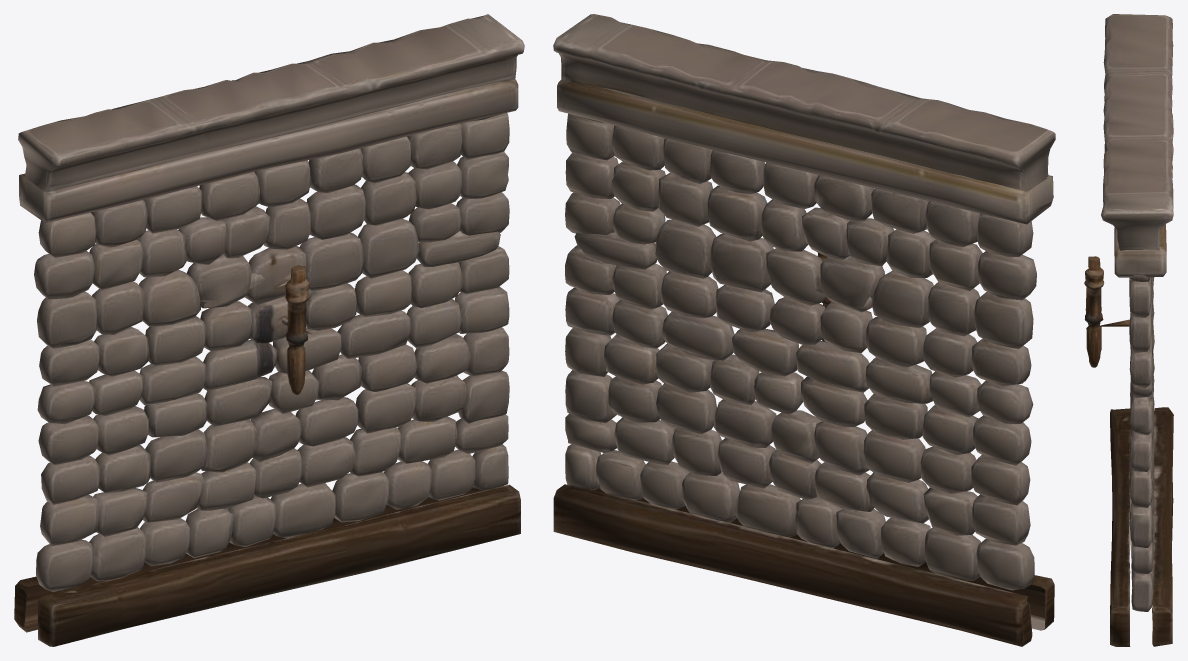
Rendered from sd_parede_tocha.glb.
The picture shows the model from 3 angles, left to right: view 1: azimuth 30°, elevation 25°; view 2: azimuth 150°, elevation 25°; view 3: azimuth 270°, elevation 25°; orthographic projection. The views are drawn at different scales.
Visible parts, largest first — view 1: Mesh_0.002; view 2: Mesh_0.002; view 3: Mesh_0.002.
Part boxes in pixels (x1=…): Mesh_0.002: x1=14, y1=14, x2=524, y2=646; Mesh_0.002: x1=553, y1=14, x2=1055, y2=646; Mesh_0.002: x1=1084, y1=14, x2=1173, y2=646.
Size of the model in its own units: 0.4488 by 0.4539 by 0.0844.
1 material, 1 textured.
